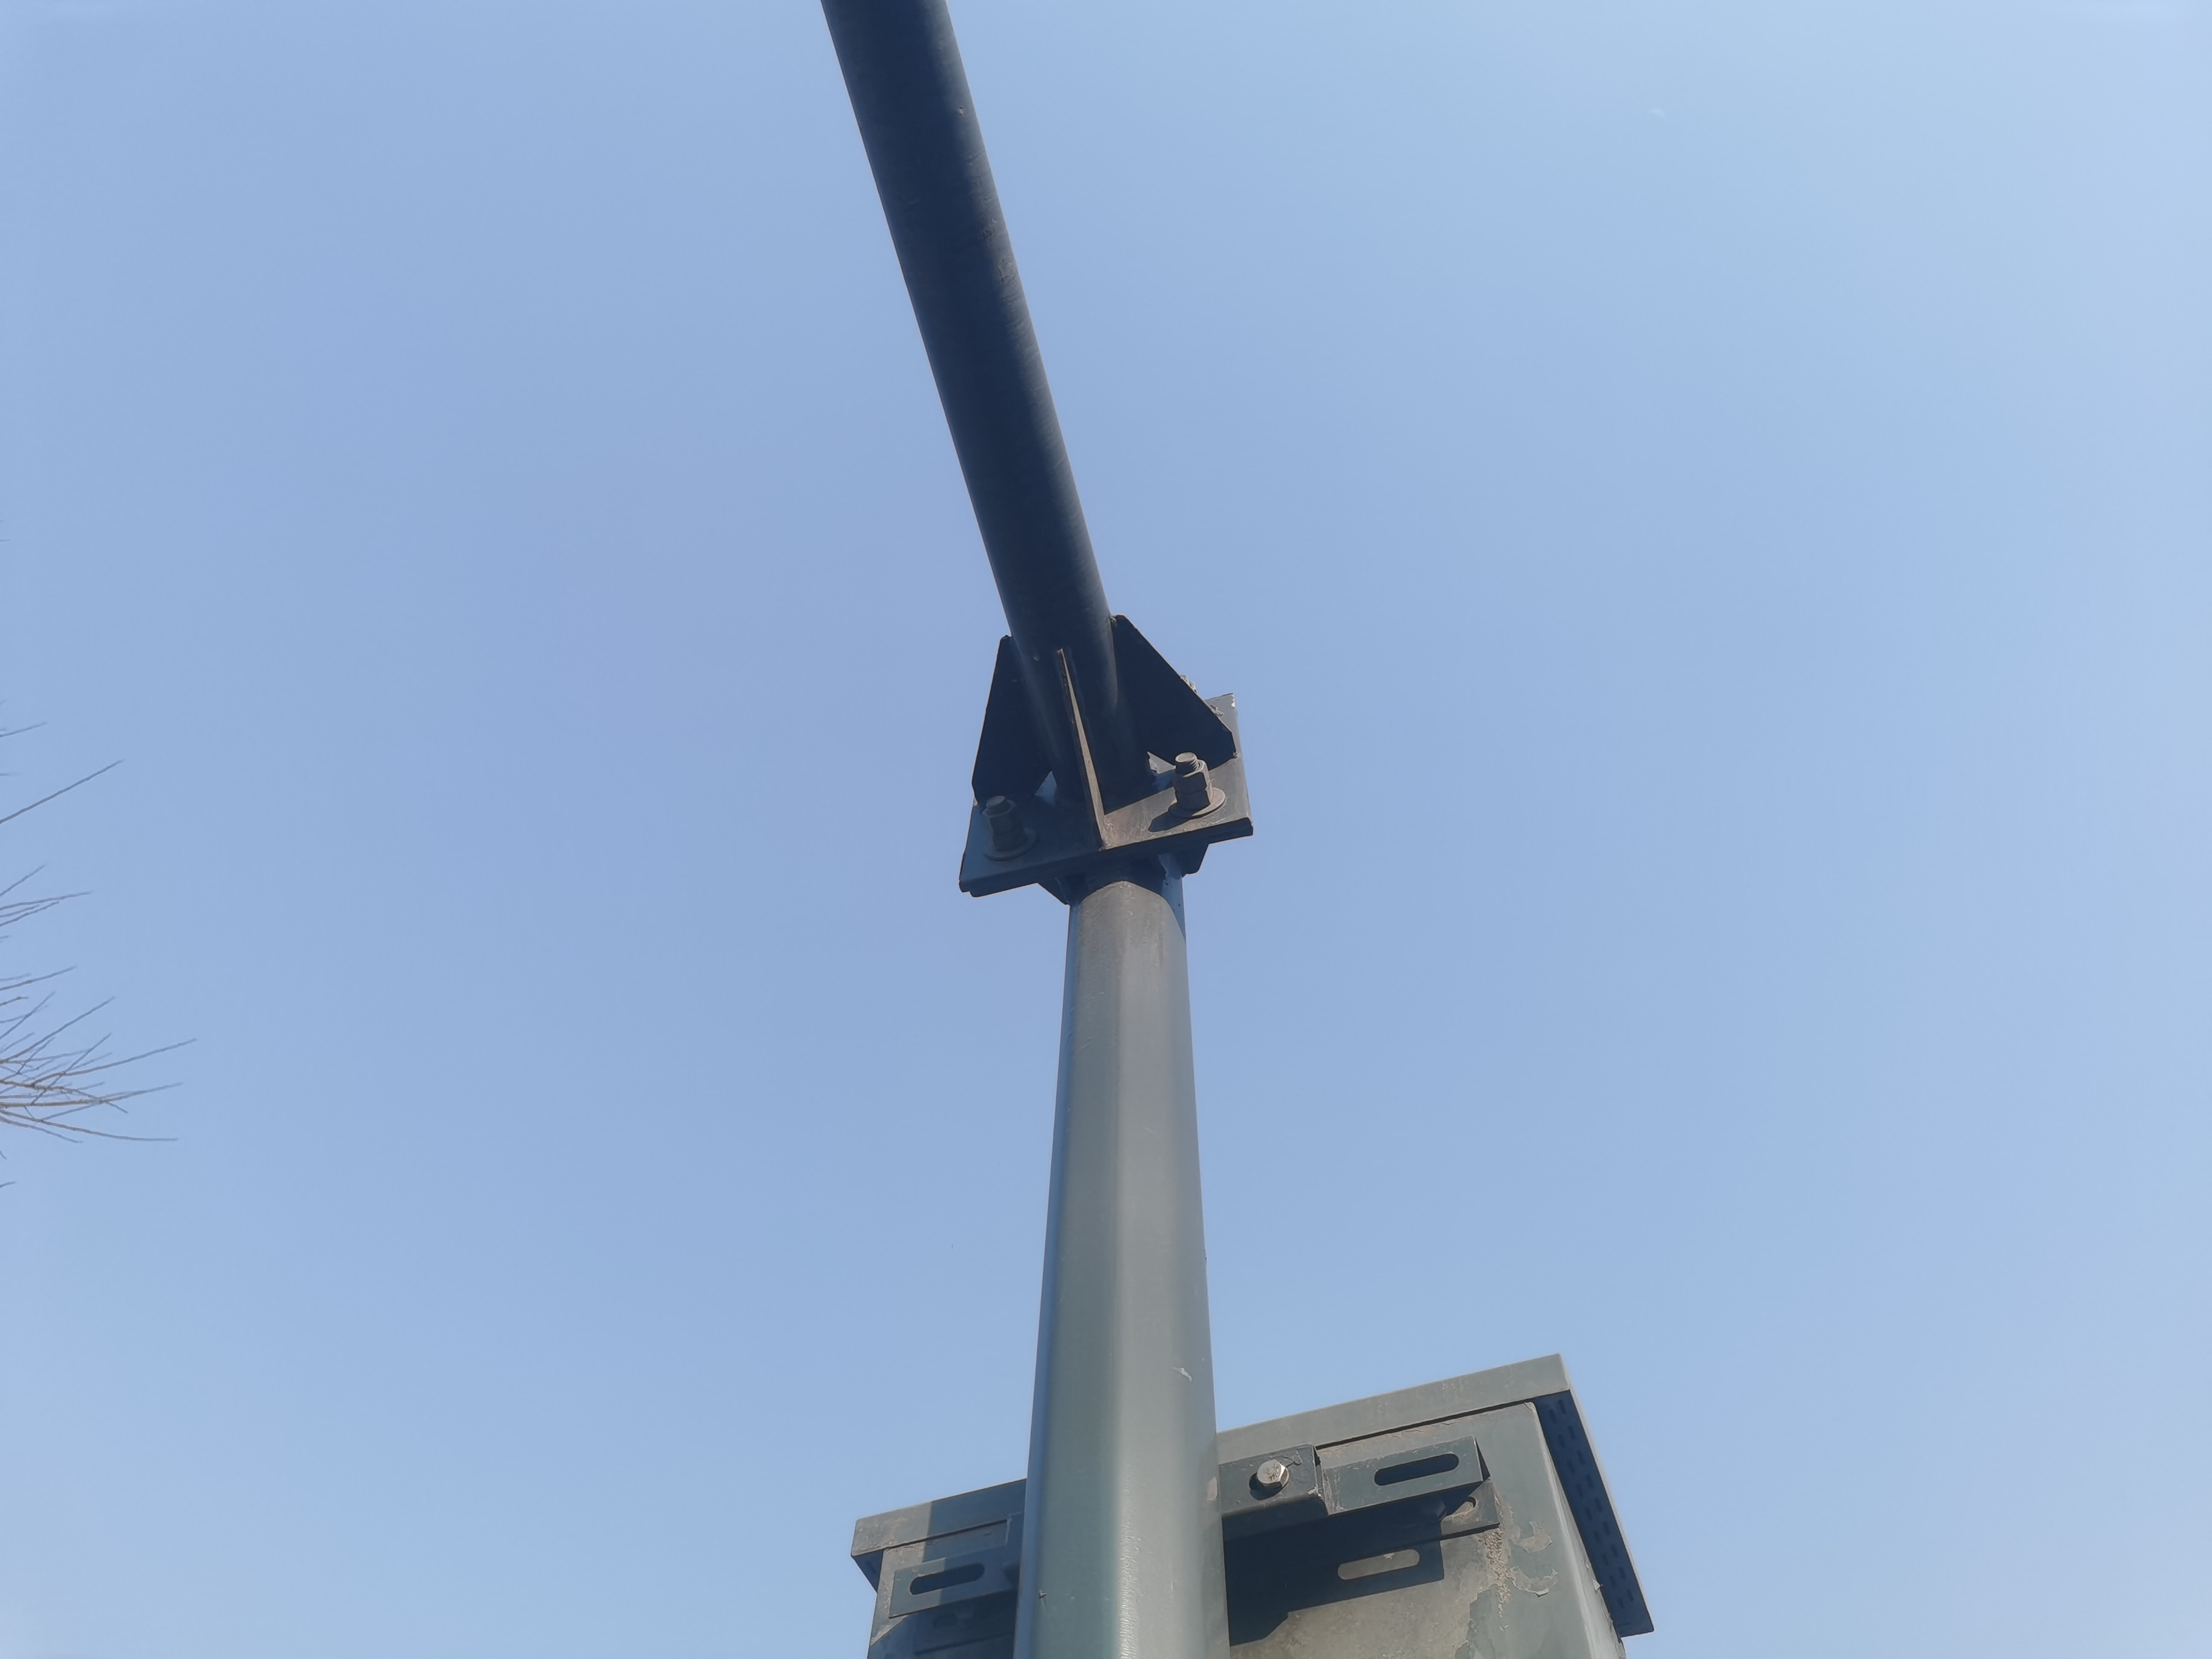bolt_a: (1254, 1457, 1289, 1493)
bolt_b: (1165, 755, 1214, 793), (975, 796, 1026, 833)
